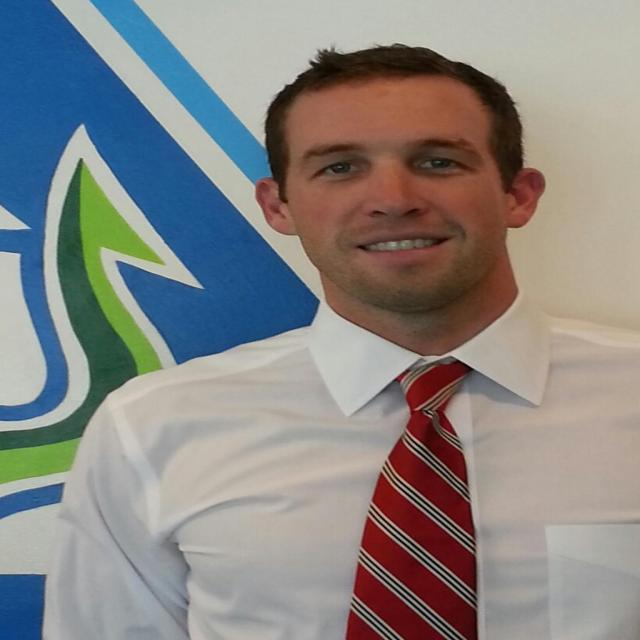Face: (271, 83, 546, 306)
